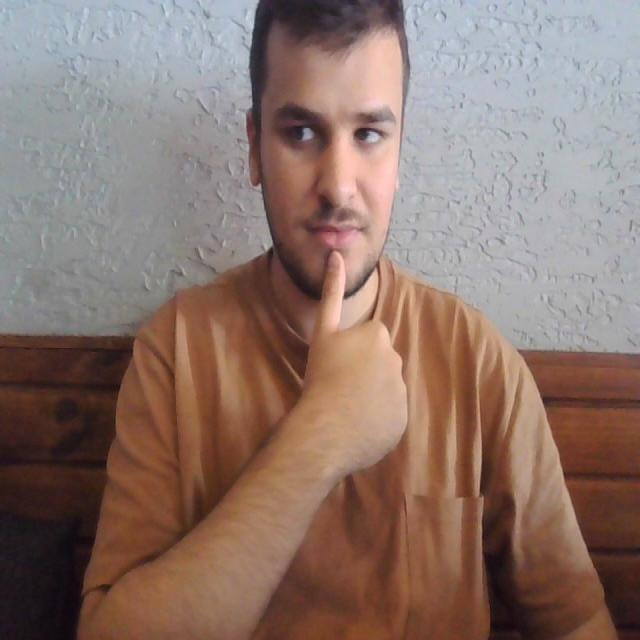Baba: (285, 204, 373, 324)
